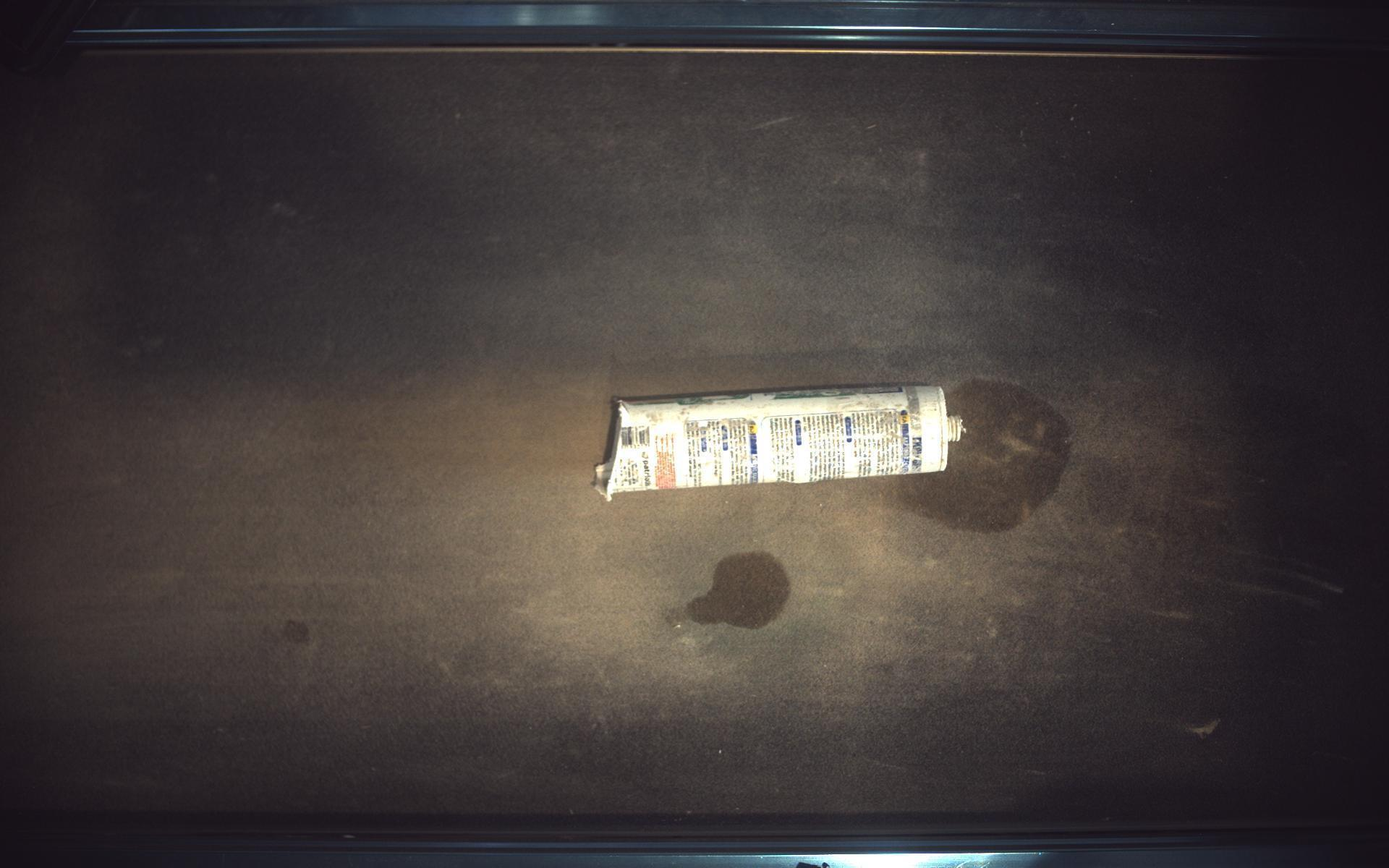plastic: (595, 386, 965, 500)
